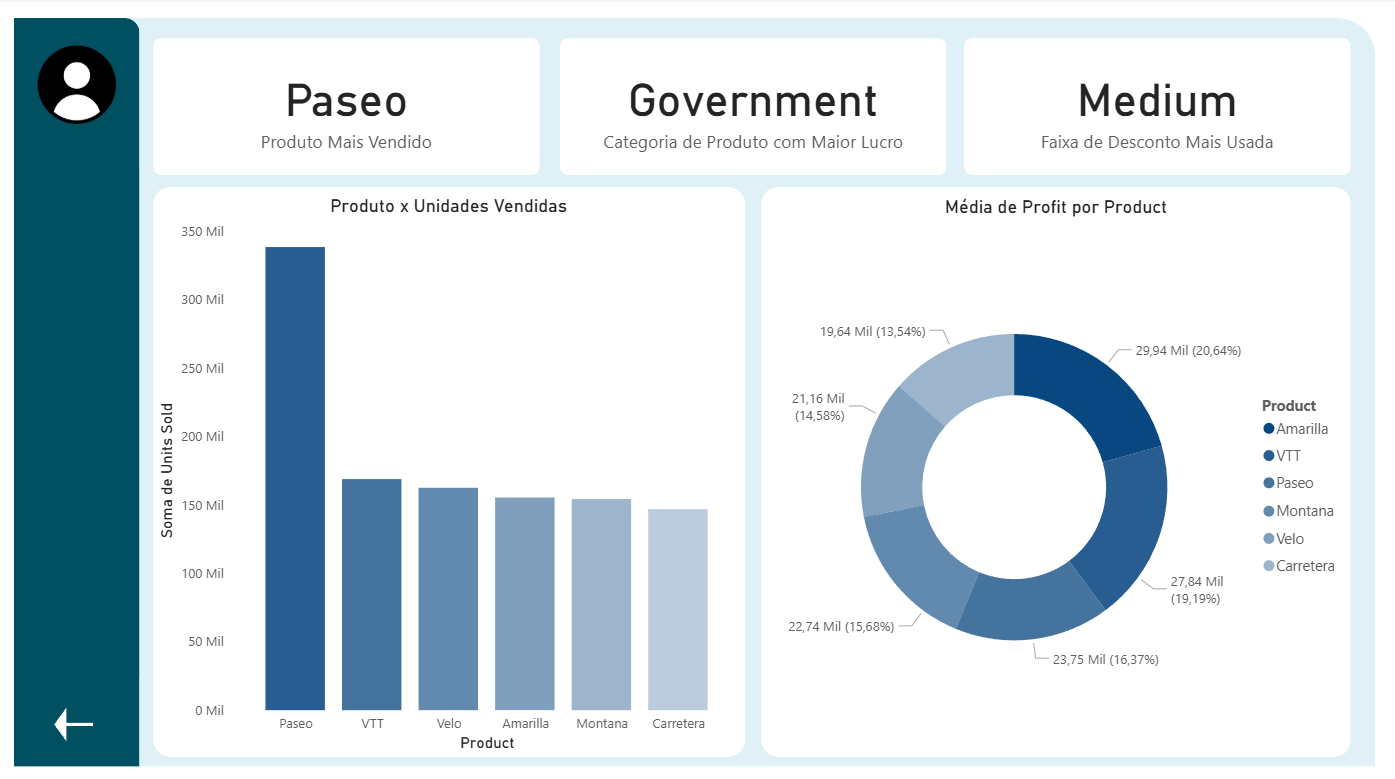

The page's visual inventory and layout, read from the dashboard file:
{"tool":"powerbi","page":{"name":"Duplicata de Página 1","canvas":[1280,720],"ordinal":1},"visuals":[{"type":"shape","box":[13.4,14.4,1248,686.9],"z":0},{"type":"shape","box":[140.3,33,355,125.8],"z":0},{"type":"card","fields":{"Values":["F_Vendas.Produto Mais Vendido"]},"box":[140.3,33,354.8,125.8],"z":1000},{"type":"shape","box":[13.3,14.3,115.3,687],"z":2000},{"type":"shape","box":[140.3,170.2,543.6,522.9],"z":8000},{"type":"shape","box":[698.3,170.2,541.5,522.9],"z":9000},{"type":"columnChart","title":"Produto x Unidades Vendidas","fields":{"Category":["F_Vendas.Product"],"Y":["Sum(F_Vendas.Units Sold)"]},"box":[139.2,177.4,544.6,515.7],"z":10000},{"type":"donutChart","fields":{"Category":["D_Produtos.Product"],"Y":["Avg(F_Vendas.Profit)"]},"box":[697.9,177.7,541.6,515.3],"z":11000},{"type":"shape","box":[49.5,646.7,36.1,32],"z":14000},{"type":"shape","box":[513.7,33,354.8,125.8],"z":14001},{"type":"shape","box":[885,33,354.8,125.8],"z":14002},{"type":"card","fields":{"Values":["F_Vendas.Categoria com Maior Lucro"]},"box":[513.7,33,354.8,125.8],"z":14003},{"type":"card","fields":{"Values":["D_Calendar.Faixa de Desconto Mais Usada"]},"box":[885,33,354.8,125.8],"z":14004},{"type":"image","box":[27.4,34.6,85.9,82.3],"z":14005}]}

Visuals, with their boxes in screenshot pixels (x1, y1, x2, y2), scaled from the page's 1280x720 canvas onto the 1395x779 screenshot:
shape: bbox=[15, 16, 1375, 759]
shape: bbox=[153, 36, 540, 172]
card - F_Vendas.Produto Mais Vendido: bbox=[153, 36, 540, 172]
shape: bbox=[14, 15, 140, 759]
shape: bbox=[153, 184, 745, 750]
shape: bbox=[761, 184, 1351, 750]
"Produto x Unidades Vendidas" columnChart: bbox=[152, 192, 745, 750]
donutChart - D_Produtos.Product x Avg(F_Vendas.Profit): bbox=[761, 192, 1351, 750]
shape: bbox=[54, 700, 93, 734]
shape: bbox=[560, 36, 947, 172]
shape: bbox=[965, 36, 1351, 172]
card - F_Vendas.Categoria com Maior Lucro: bbox=[560, 36, 947, 172]
card - D_Calendar.Faixa de Desconto Mais Usada: bbox=[965, 36, 1351, 172]
image: bbox=[30, 37, 123, 126]
